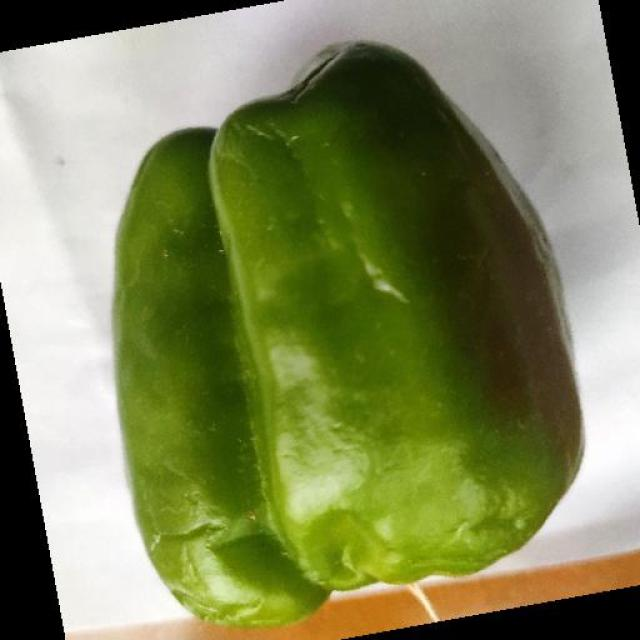Fresh_Capsicum: (132, 106, 574, 617)
